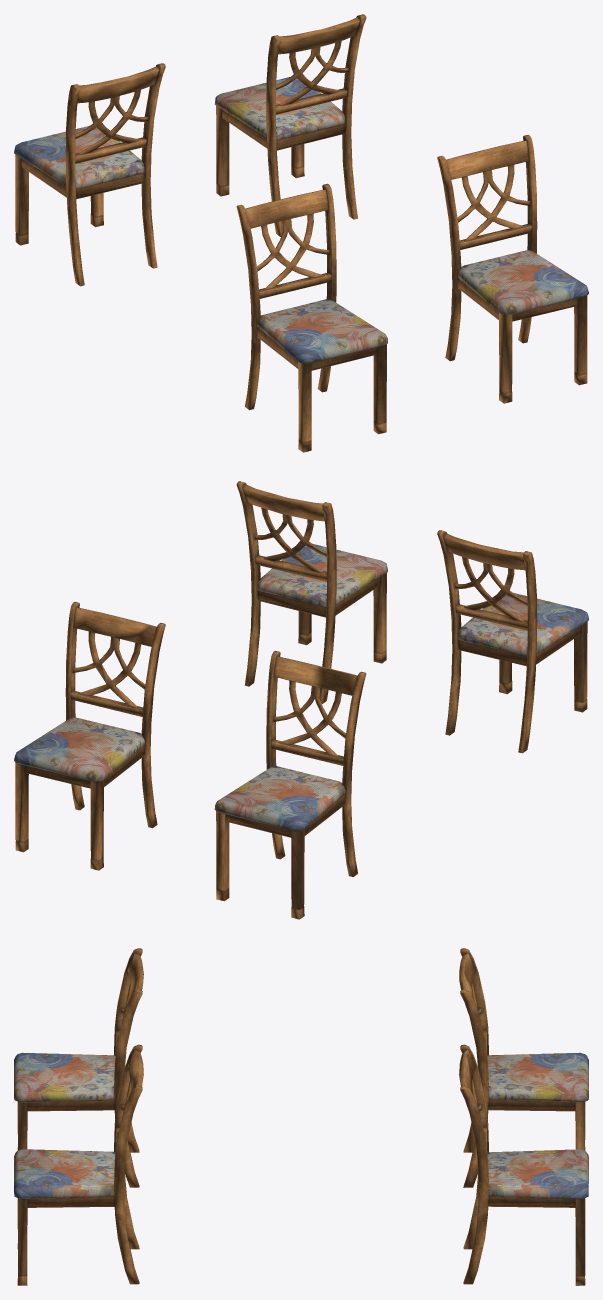
File: sedie.fbx
3 views of the same model, one above another, from view 1: azimuth 30°, elevation 25°; view 2: azimuth 150°, elevation 25°; view 3: azimuth 270°, elevation 25° (orthographic).
Parts seen in each view (by area): view 1: DiningChair; view 2: DiningChair; view 3: DiningChair.
Boxes of the visible parts, bbox=[...] form: DiningChair: bbox=[14, 14, 588, 452]; DiningChair: bbox=[14, 481, 588, 919]; DiningChair: bbox=[14, 948, 588, 1285].
Bounding box in the file's own units: 145 × 96.4 × 252.
Materials: 1 (1 with a texture image).
